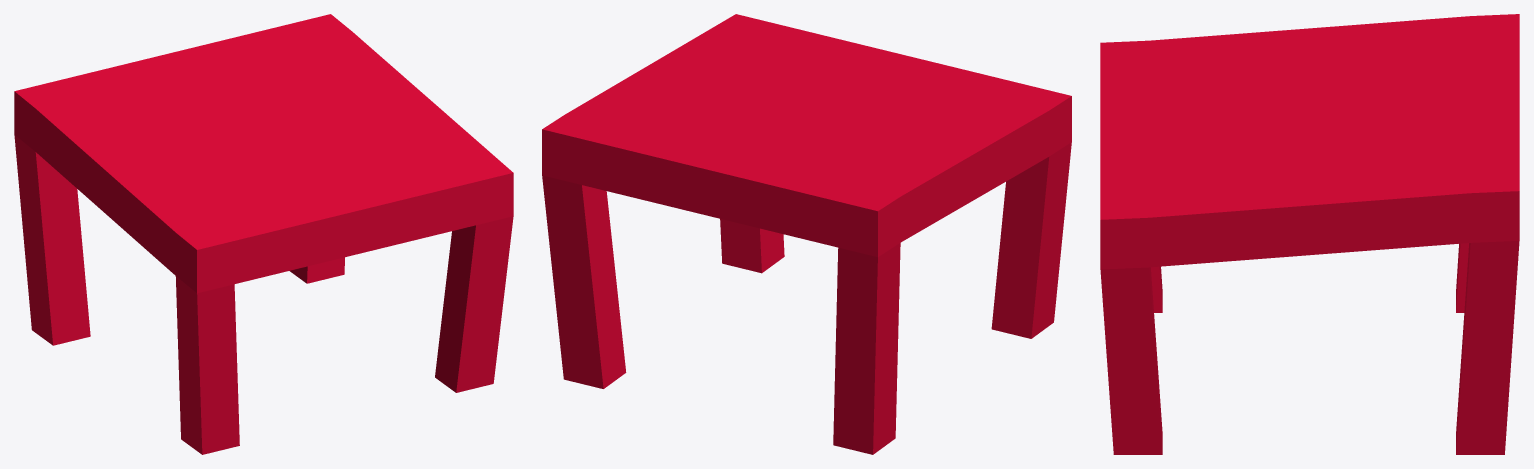
File: Small_table_1.fbx
The picture shows the model from 3 angles, left to right: view 1: azimuth 30°, elevation 25°; view 2: azimuth 150°, elevation 25°; view 3: azimuth 270°, elevation 25°; orthographic projection. The views are drawn at different scales.
Parts seen in each view (by area): view 1: Small_table_1; view 2: Small_table_1; view 3: Small_table_1.
Part boxes in pixels (x1=…): Small_table_1: x1=14, y1=14, x2=513, y2=454; Small_table_1: x1=542, y1=14, x2=1071, y2=454; Small_table_1: x1=1100, y1=14, x2=1519, y2=454.
Bounding box in the file's own units: 1.03 × 0.7377 × 1.03.
